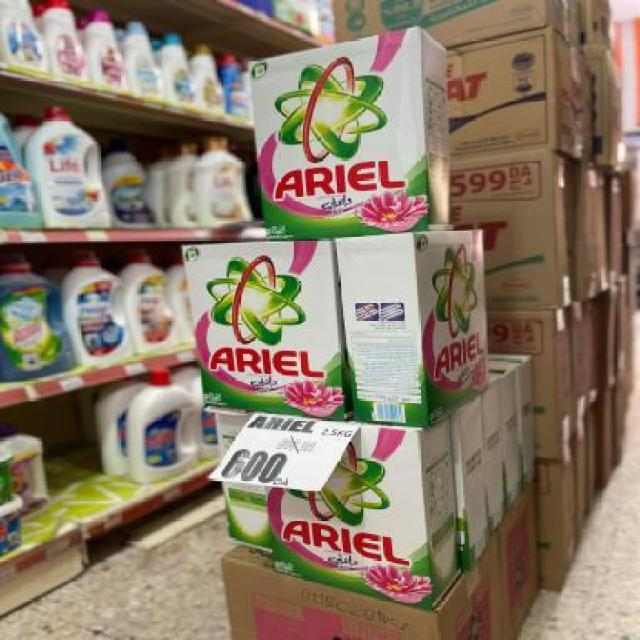Detergent: (249, 35, 437, 232), (267, 410, 438, 599), (182, 246, 347, 420), (343, 231, 491, 418)
